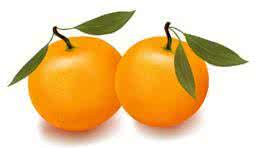orange: (117, 17, 229, 128), (23, 20, 124, 131)
